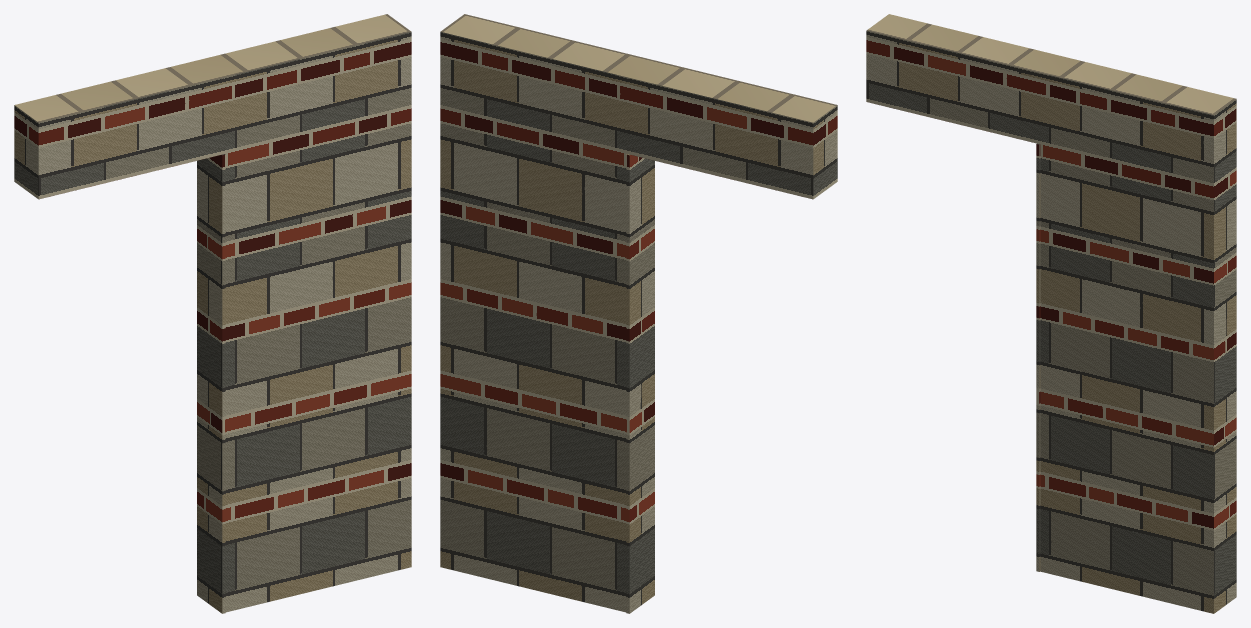
Rendered from wall door slot v6 byzswap open-side.glb.
3 views of the same model, side by side, from view 1: azimuth 30°, elevation 25°; view 2: azimuth 150°, elevation 25°; view 3: azimuth 330°, elevation 25° (orthographic). The views are drawn at different scales.
Parts seen in each view (by area): view 1: mesh_wall_door_slot_v6_byzswap_open_side, mesh_wall_door_slot_v6_byzswap_open_side_reveal; view 2: mesh_wall_door_slot_v6_byzswap_open_side, mesh_wall_door_slot_v6_byzswap_open_side_reveal; view 3: mesh_wall_door_slot_v6_byzswap_open_side, mesh_wall_door_slot_v6_byzswap_open_side_reveal.
Boxes of the visible parts, x1,y1,x2,y2 form: mesh_wall_door_slot_v6_byzswap_open_side: (14,14,411,612); mesh_wall_door_slot_v6_byzswap_open_side_reveal: (197,154,225,613); mesh_wall_door_slot_v6_byzswap_open_side: (440,14,837,612); mesh_wall_door_slot_v6_byzswap_open_side_reveal: (626,154,654,613); mesh_wall_door_slot_v6_byzswap_open_side: (866,14,1236,613); mesh_wall_door_slot_v6_byzswap_open_side_reveal: (1036,143,1040,571).
Bounding box in the file's own units: 2 × 2.74 × 0.237.
Materials: 3 (3 with a texture image).
